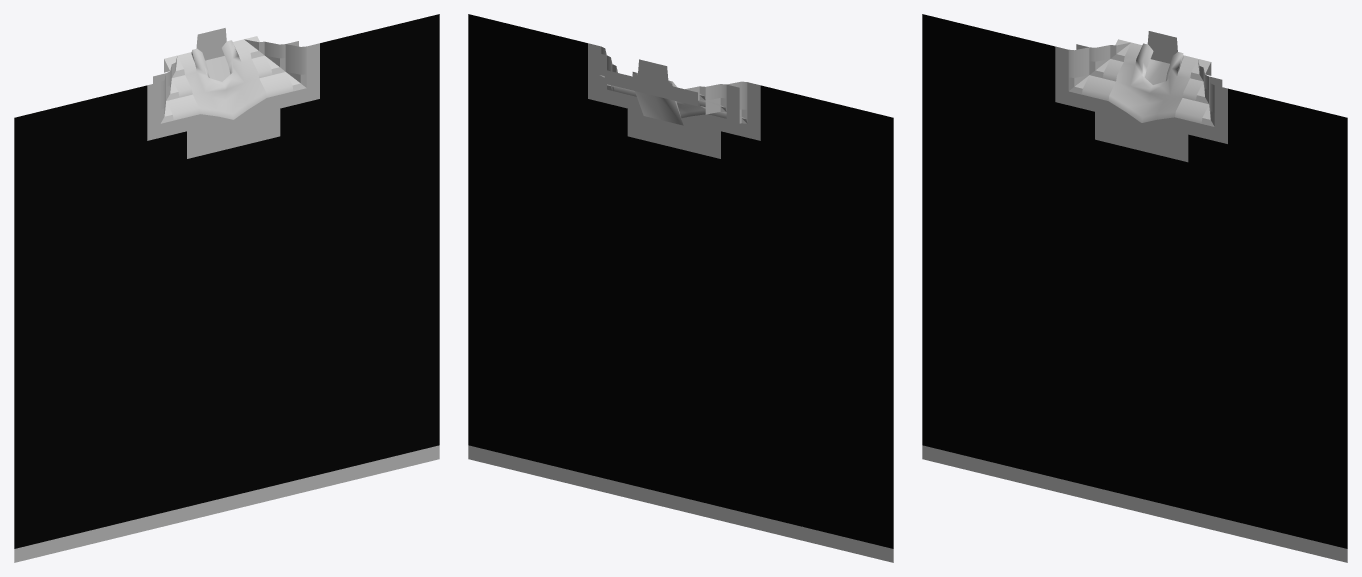
Rendered from Voltic-Cave_05_02.obj.
3 views of the same model, side by side, from view 1: azimuth 30°, elevation 25°; view 2: azimuth 150°, elevation 25°; view 3: azimuth 330°, elevation 25° (orthographic).
Parts seen in each view (by area): view 1: map; view 2: map; view 3: map.
Part boxes in pixels (left/top/right/bottom): map: left=14, top=14, right=439, bottom=562; map: left=468, top=14, right=893, bottom=562; map: left=922, top=14, right=1347, bottom=562.
Bounding box in the file's own units: 32 × 33.25 × 3.
